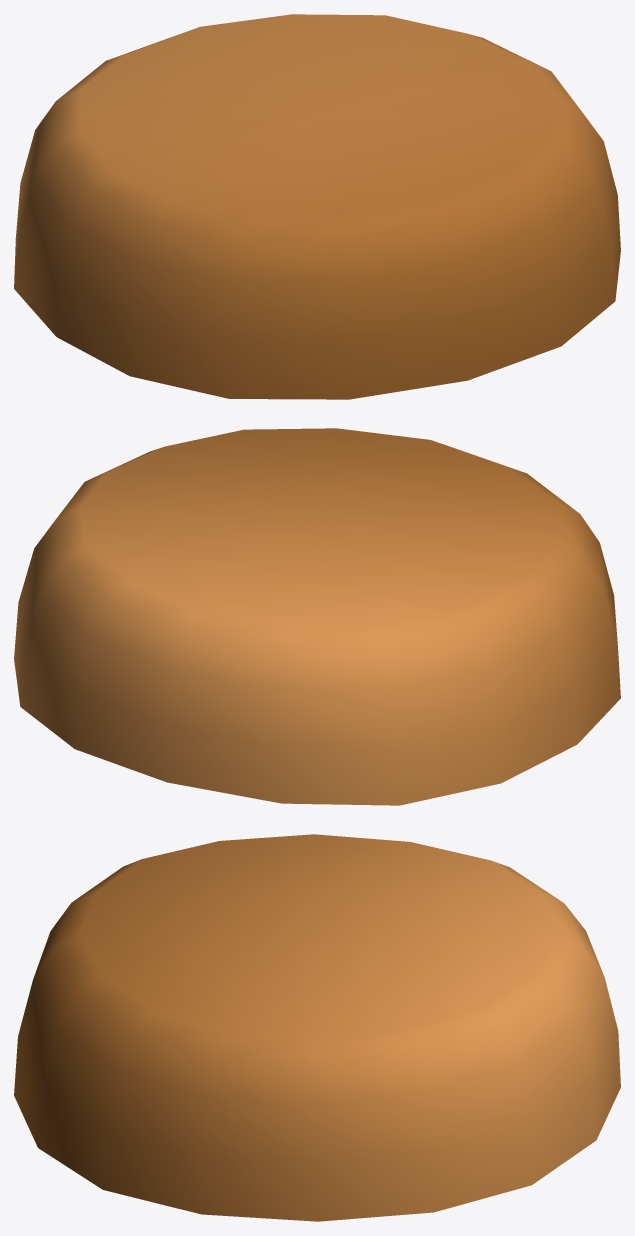
The model's file is Bread_1 Small Half_1.fbx.
3 renders of one model, top to bottom at view 1: azimuth 30°, elevation 25°; view 2: azimuth 150°, elevation 25°; view 3: azimuth 270°, elevation 25°, orthographic. The views are drawn at different scales.
Parts seen in each view (by area): view 1: Bread_1 Small Half_1; view 2: Bread_1 Small Half_1; view 3: Bread_1 Small Half_1.
Boxes of the visible parts, bbox=[...] form: Bread_1 Small Half_1: bbox=[14, 14, 620, 399]; Bread_1 Small Half_1: bbox=[14, 428, 620, 805]; Bread_1 Small Half_1: bbox=[14, 834, 620, 1221].
Bounding box in the file's own units: 0.1149 × 0.0334 × 0.1125.
